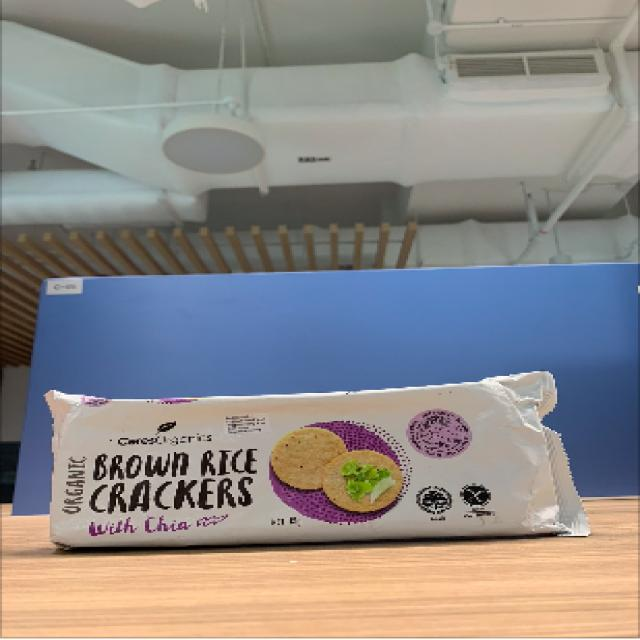object_name: (53, 392, 566, 541)
